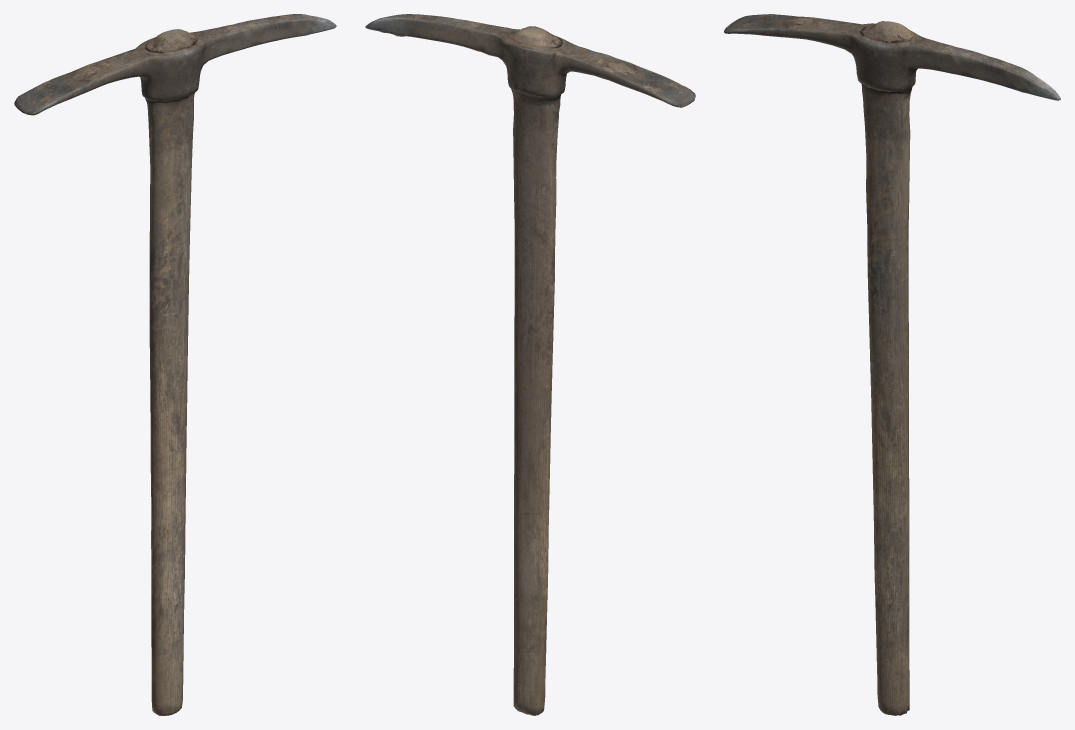
File: picke_dirty_01.glb
3 renders of one model, left to right at view 1: azimuth 30°, elevation 25°; view 2: azimuth 150°, elevation 25°; view 3: azimuth 330°, elevation 25°, orthographic.
Visible parts, largest first — view 1: picke_dirty_01; view 2: picke_dirty_01; view 3: picke_dirty_01.
Part boxes in pixels (x1=…): picke_dirty_01: x1=14, y1=14, x2=336, y2=715; picke_dirty_01: x1=365, y1=14, x2=695, y2=715; picke_dirty_01: x1=724, y1=14, x2=1060, y2=715.
Bounding box in the file's own units: 0.5498 × 1.12 × 0.0693.
Materials: 1 (1 with a texture image).
